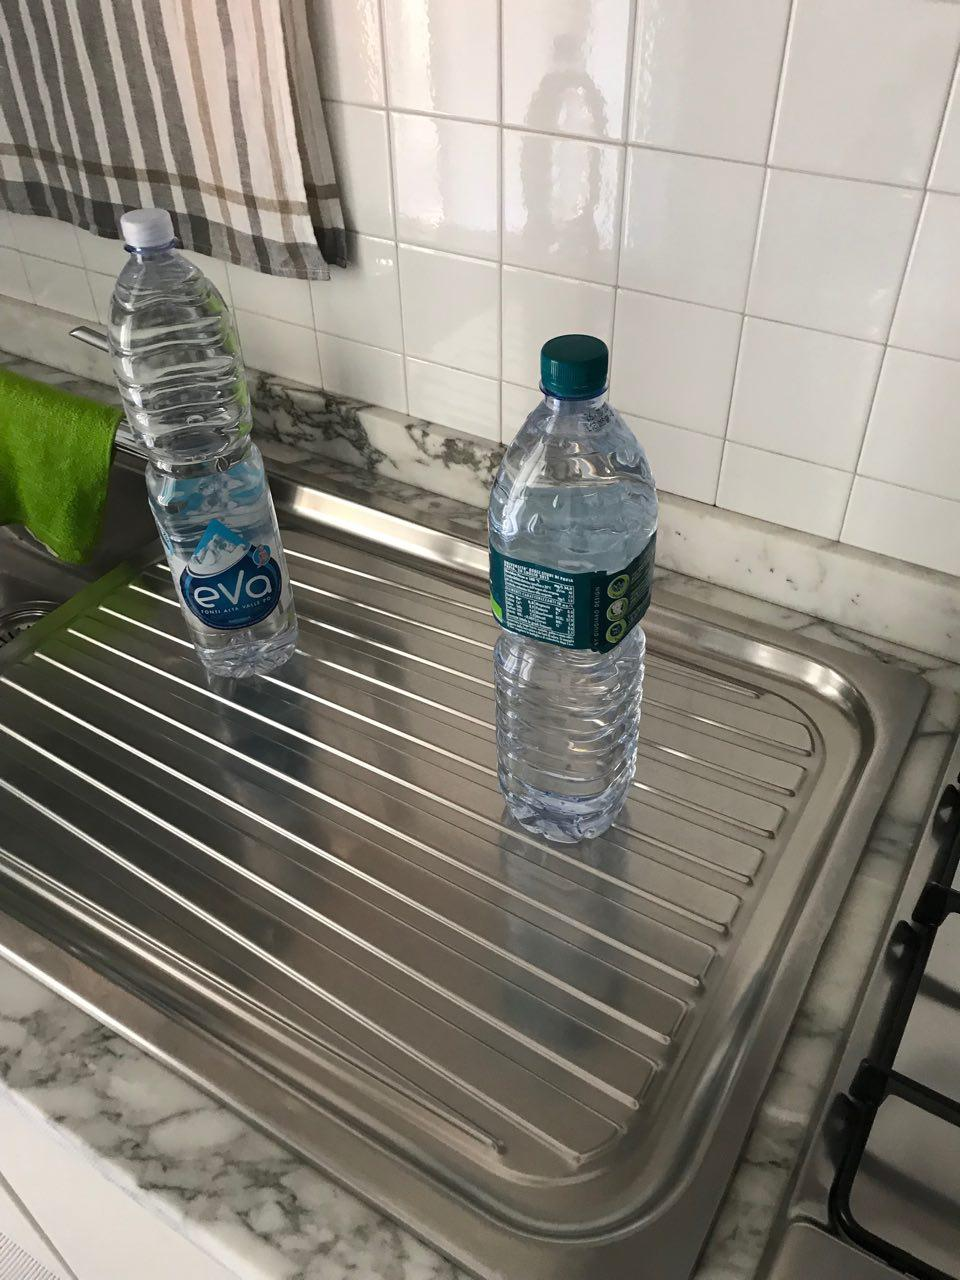san_bernardo: (486, 333, 659, 844)
